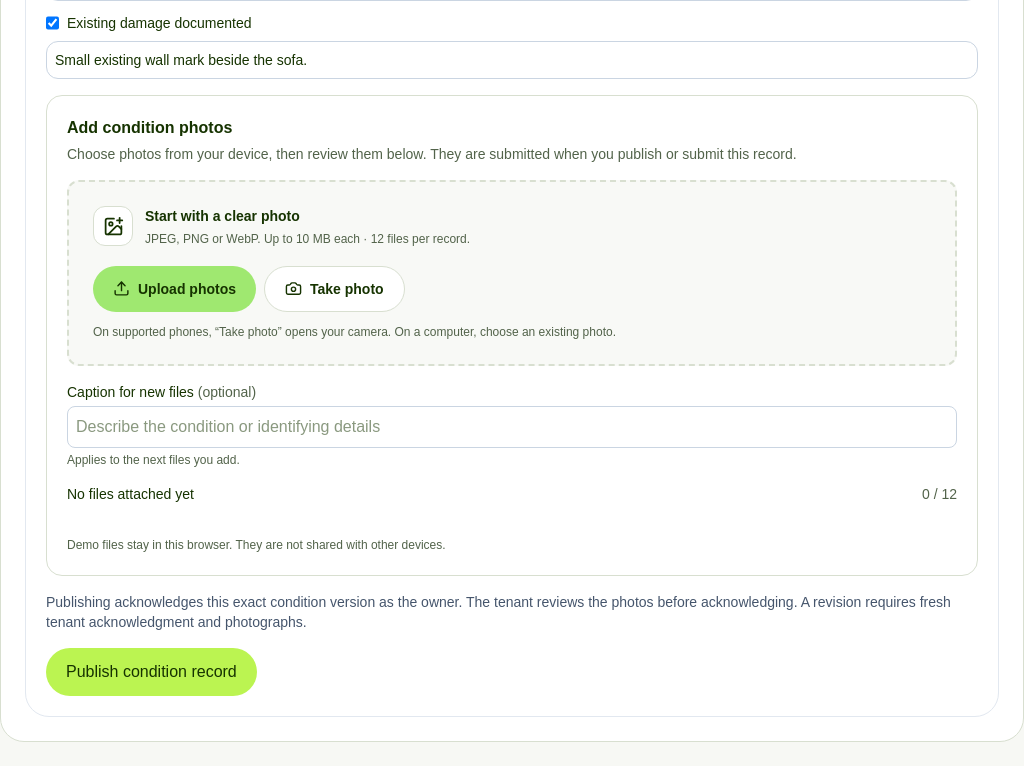
it: demo declaration drafts › prefills the APARTMENT initial condition without publishing evidence
(page scrolled)
Click the button "Publish condition record".
click(151, 672)  # box [46,648,257,696]
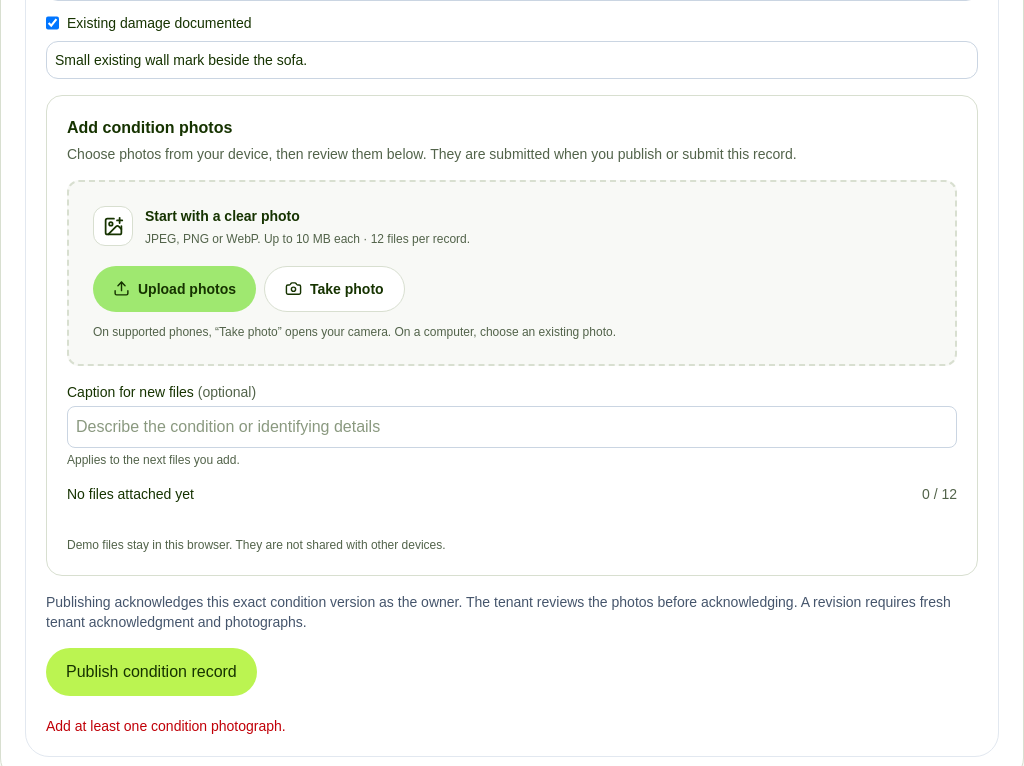
Expected: the message shows "Add at least one condition photograph", [46,718,286,734]
